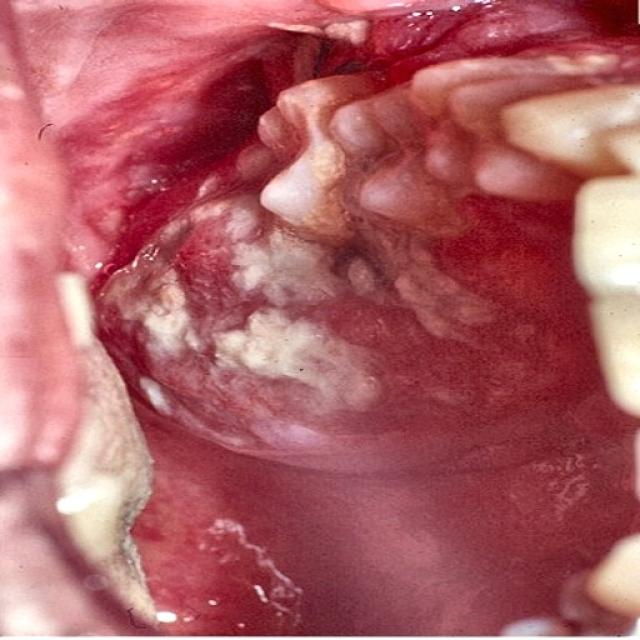leukoplakia-like-detection: (40, 128, 595, 639)
processing_area: (1, 0, 639, 639)
